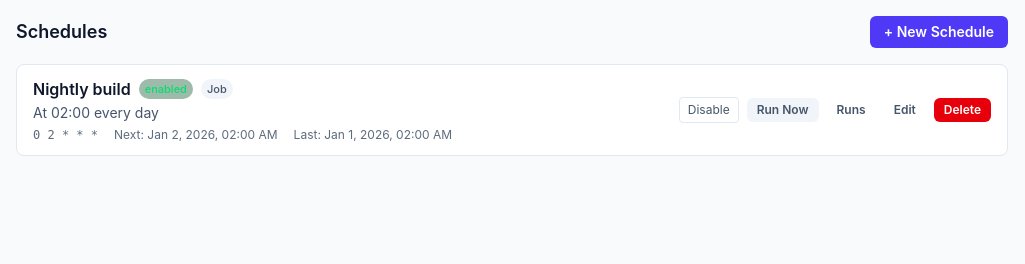
schedulesView — run mode, skips, and runs › shows the saved decisions section once Runs is expanded
Click the button "Runs". click: (851, 110)
box: x1=826 y1=98 x2=876 y2=122
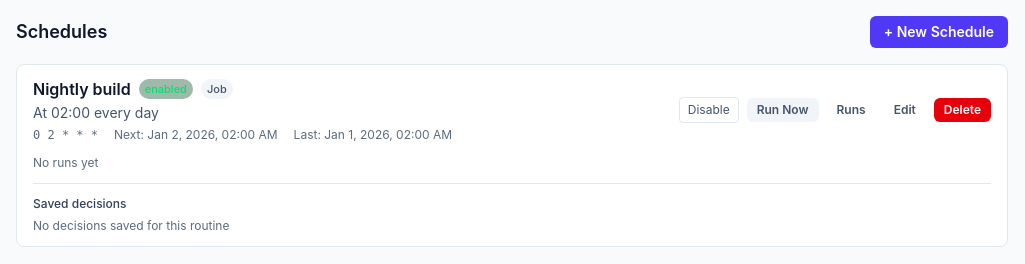
Now the text "Saved decisions" is shown, box x1=33 y1=196 x2=126 y2=211
